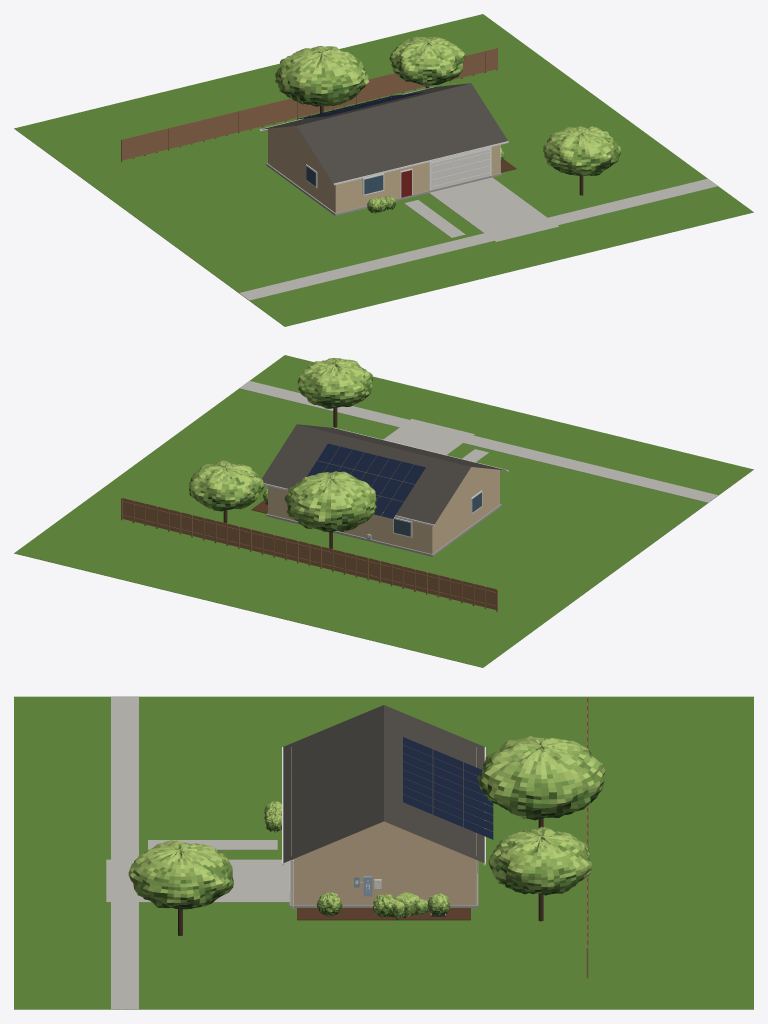
File: home_10_pre_install.obj
3 views of the same model, one above another, from view 1: azimuth 30°, elevation 25°; view 2: azimuth 150°, elevation 25°; view 3: azimuth 270°, elevation 25° (orthographic). The views are drawn at different scales.
Parts seen in each view (by area): view 1: yard, house, tree_3, tree_2, tree_1, solar_array; view 2: yard, house, tree_3, solar_array, tree_2, tree_1; view 3: yard, house, tree_3, tree_2, solar_array, tree_1, mulch_bed_side.
Boxes of the visible parts, x1,y1,x2,y2 form: yard: (14,14,753,326); house: (259,83,508,215); tree_3: (275,46,369,113); tree_2: (543,126,620,195); tree_1: (389,36,464,88); solar_array: (297,92,424,119); yard: (14,355,753,667); house: (262,424,508,556); tree_3: (284,471,376,548); solar_array: (307,443,425,518); tree_2: (297,358,372,427); tree_1: (189,460,264,523); yard: (14,696,753,1009); house: (282,705,485,908); tree_3: (476,736,605,827); tree_2: (128,840,233,935); solar_array: (403,737,493,839); tree_1: (488,826,592,921); mulch_bed_side: (297,908,470,920).
Bounding box in the file's own units: 40 × 6.29 × 40.
